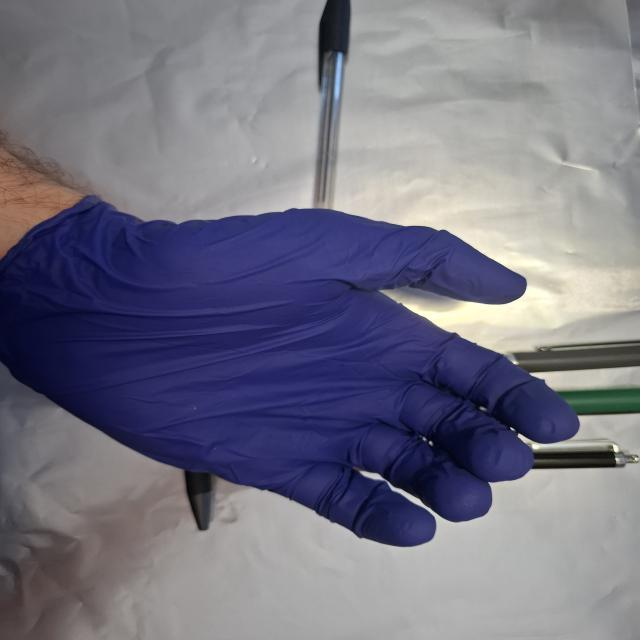glove_on: (5, 192, 586, 550)
